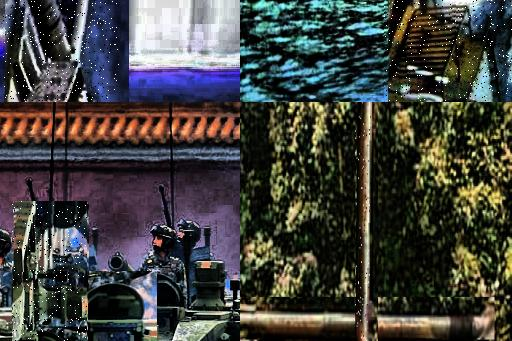tanks: (389, 1, 502, 103), (13, 202, 88, 341), (128, 262, 241, 341), (7, 1, 94, 103), (357, 103, 372, 341)
